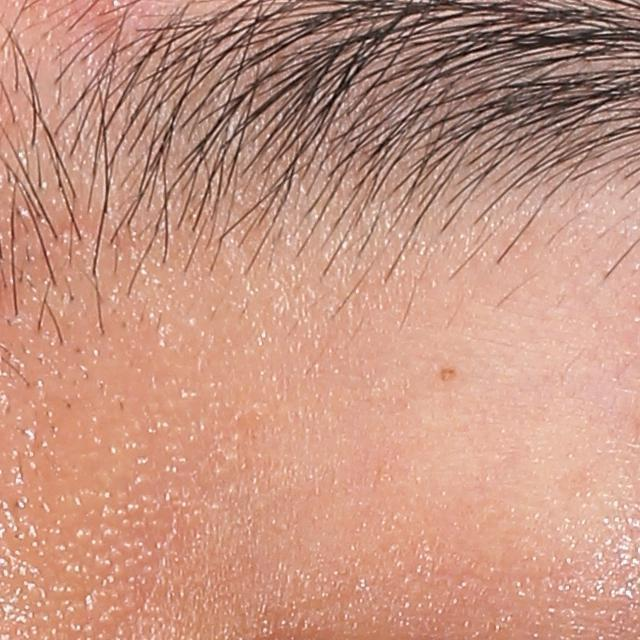nevus: (437, 365, 460, 385)
